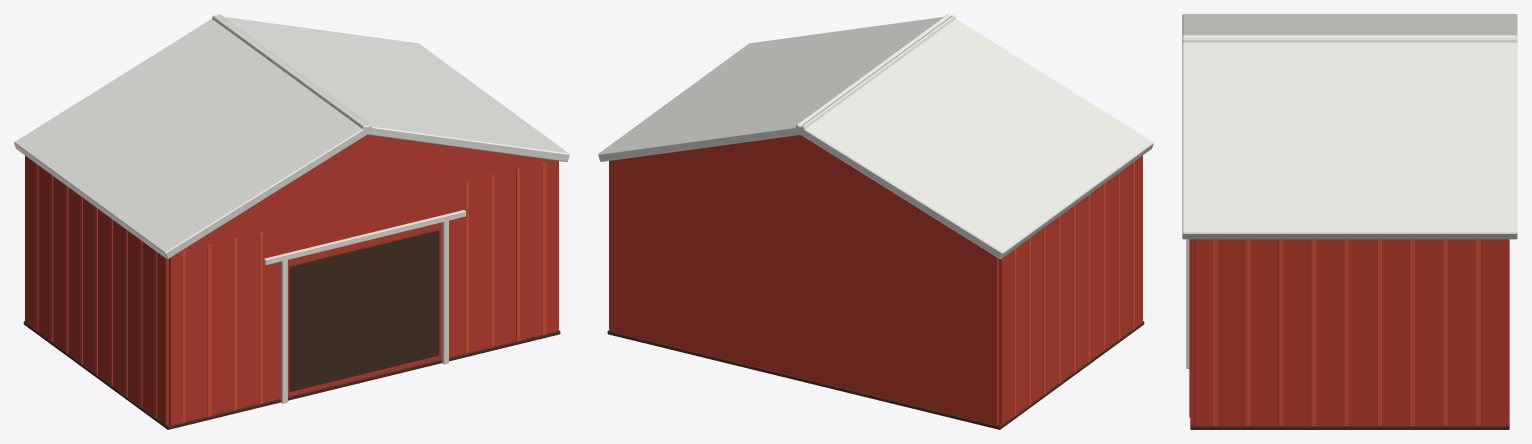
File: PlankBarn.glb
3 views of the same model, side by side, from view 1: azimuth 30°, elevation 25°; view 2: azimuth 150°, elevation 25°; view 3: azimuth 270°, elevation 25° (orthographic). The views are drawn at different scales.
Parts seen in each view (by area): view 1: FTF_Building_RedPlankBarn_Short_11x7m_Mesh; view 2: FTF_Building_RedPlankBarn_Short_11x7m_Mesh; view 3: FTF_Building_RedPlankBarn_Short_11x7m_Mesh.
Boxes of the visible parts, left/top/right/bottom form: FTF_Building_RedPlankBarn_Short_11x7m_Mesh: left=14, top=14, right=569, bottom=429; FTF_Building_RedPlankBarn_Short_11x7m_Mesh: left=598, top=14, right=1153, bottom=429; FTF_Building_RedPlankBarn_Short_11x7m_Mesh: left=1182, top=14, right=1517, bottom=429.
Bounding box in the file's own units: 11.34 × 6.95 × 7.35.
